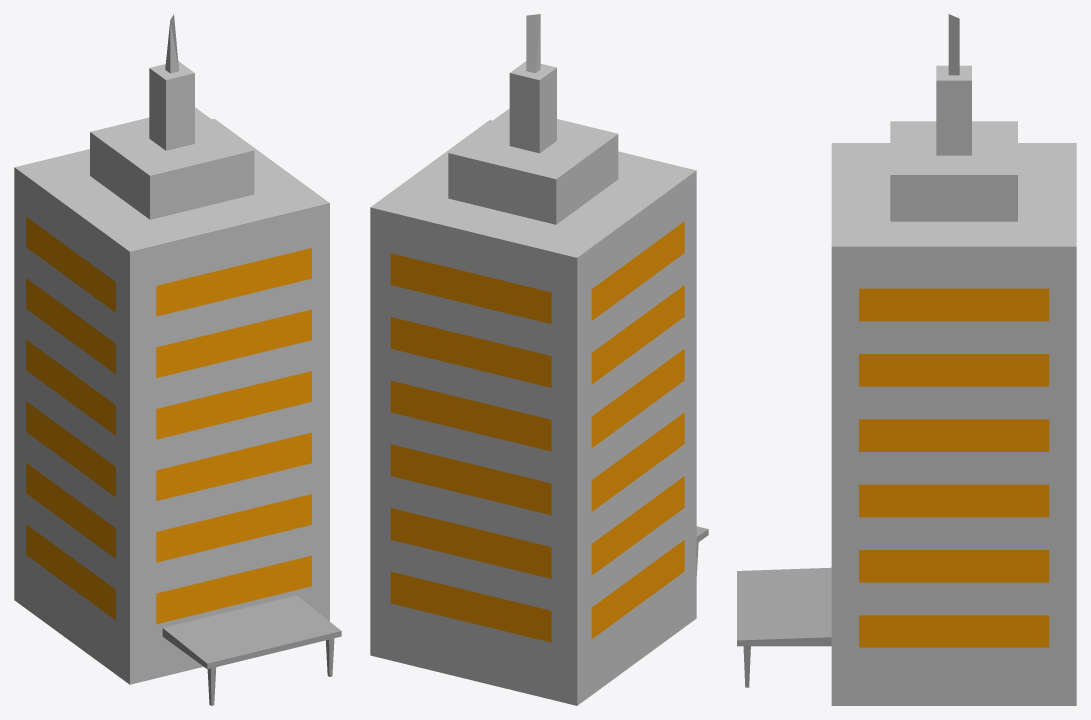
File: building_tall_orange.glb
3 views of the same model, side by side, from view 1: azimuth 30°, elevation 25°; view 2: azimuth 150°, elevation 25°; view 3: azimuth 270°, elevation 25° (orthographic). The views are drawn at different scales.
Visible parts, largest first — view 1: building_tall.001; view 2: building_tall.001; view 3: building_tall.001.
Part boxes in pixels (x1,y1,x2,y2): building_tall.001: (14, 14, 341, 705); building_tall.001: (370, 14, 708, 705); building_tall.001: (737, 14, 1076, 705).
Size of the model in its own units: 9.32 by 26.57 by 12.8.
1 material, 1 textured.
